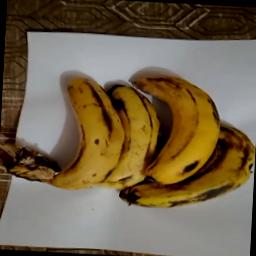Banana Unripe: (10, 78, 134, 198), (128, 59, 224, 191), (112, 131, 256, 208), (101, 75, 162, 202), (50, 64, 54, 66)
